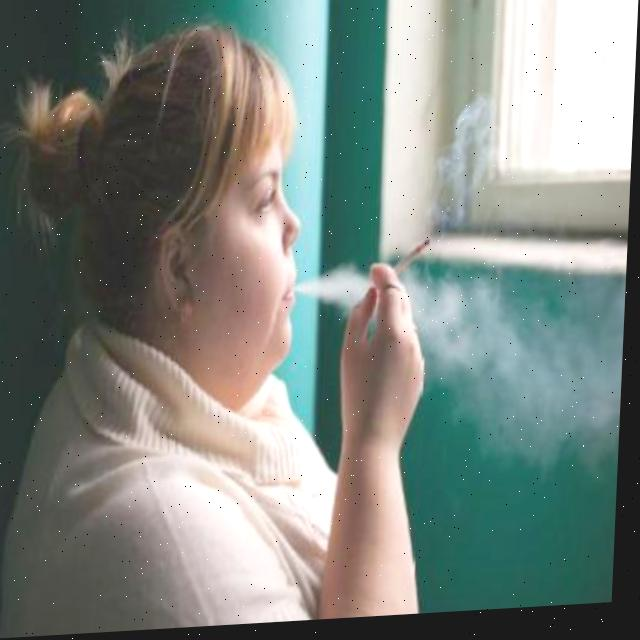cigarette: (394, 244, 435, 281)
